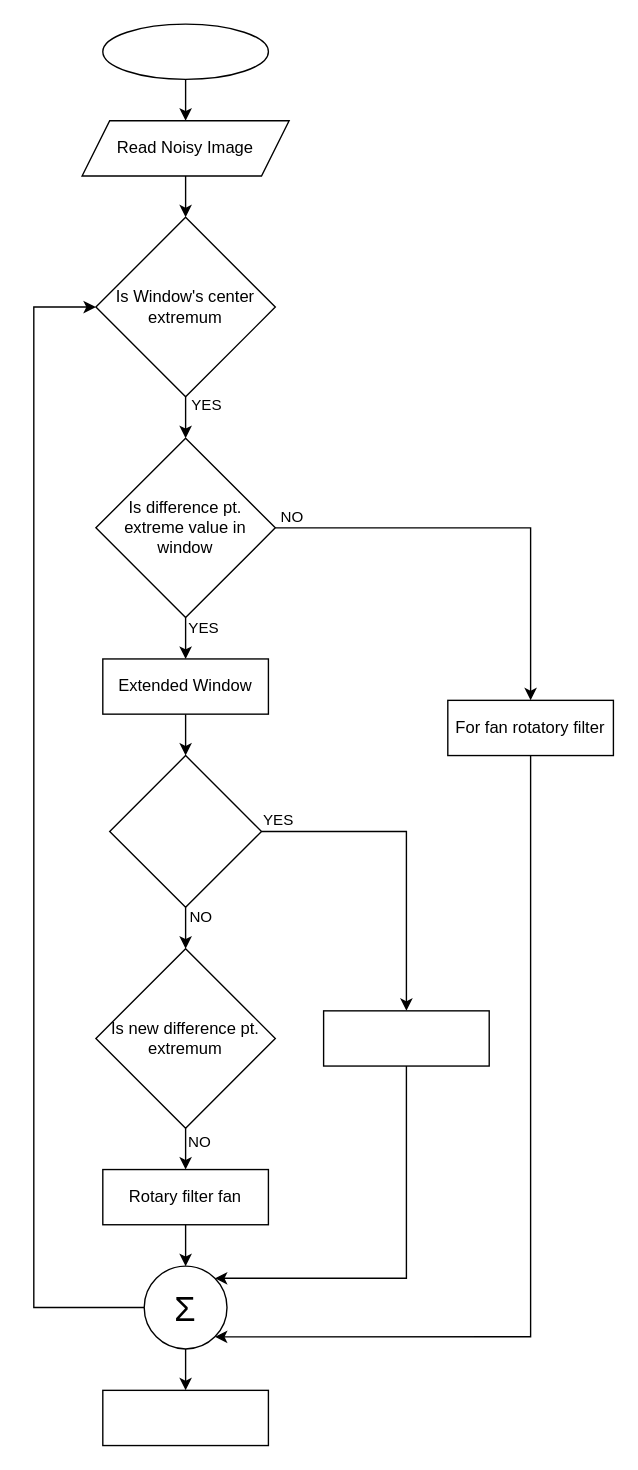
Some shapes in this 638 by 1470 pixel diagram are drawn without their labels. The centre of each missing label's shape, as x and y in pixels:
"Filtered Image" belongs at (184,1417).
"Is it the largest window" belongs at (185,830).
"Median filtering" belongs at (405,1037).
"START" belongs at (184,51).
